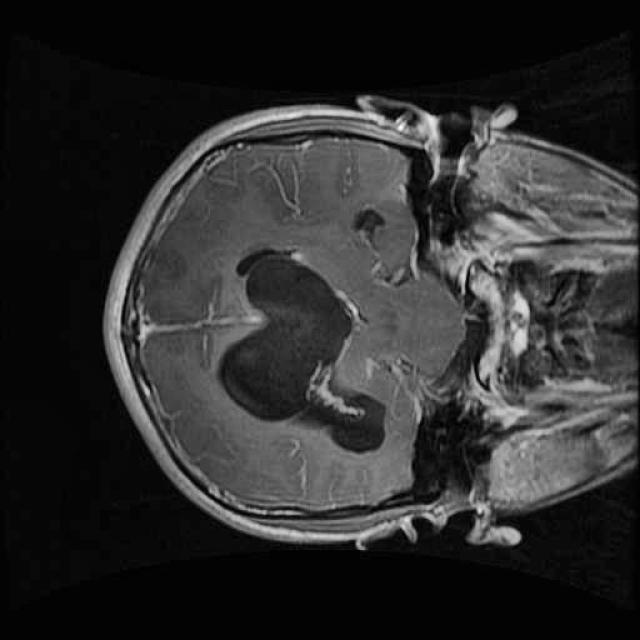Non-Tumor: (209, 229, 402, 464)
